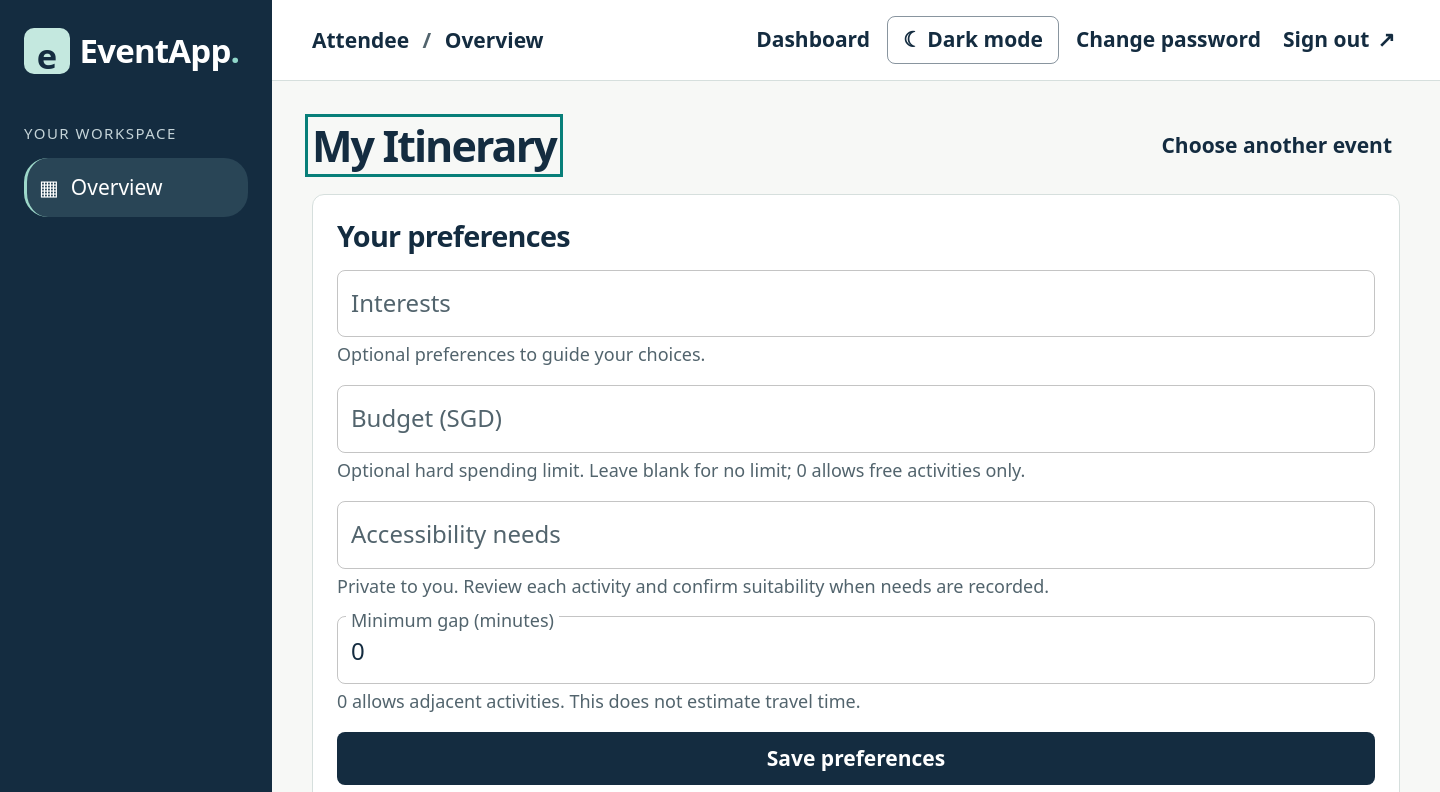
F02-UI06 stale preference save reports conflict without exposing raw server detail
Expected: the heading "My Itinerary" is shown, x1=312 y1=121 x2=556 y2=170
Expected: the button "Save preferences" is shown, x1=337 y1=732 x2=1375 y2=785
Type "Unsaved" into the field labelled "Interests". click: (856, 304)
box: x1=337 y1=270 x2=1375 y2=338
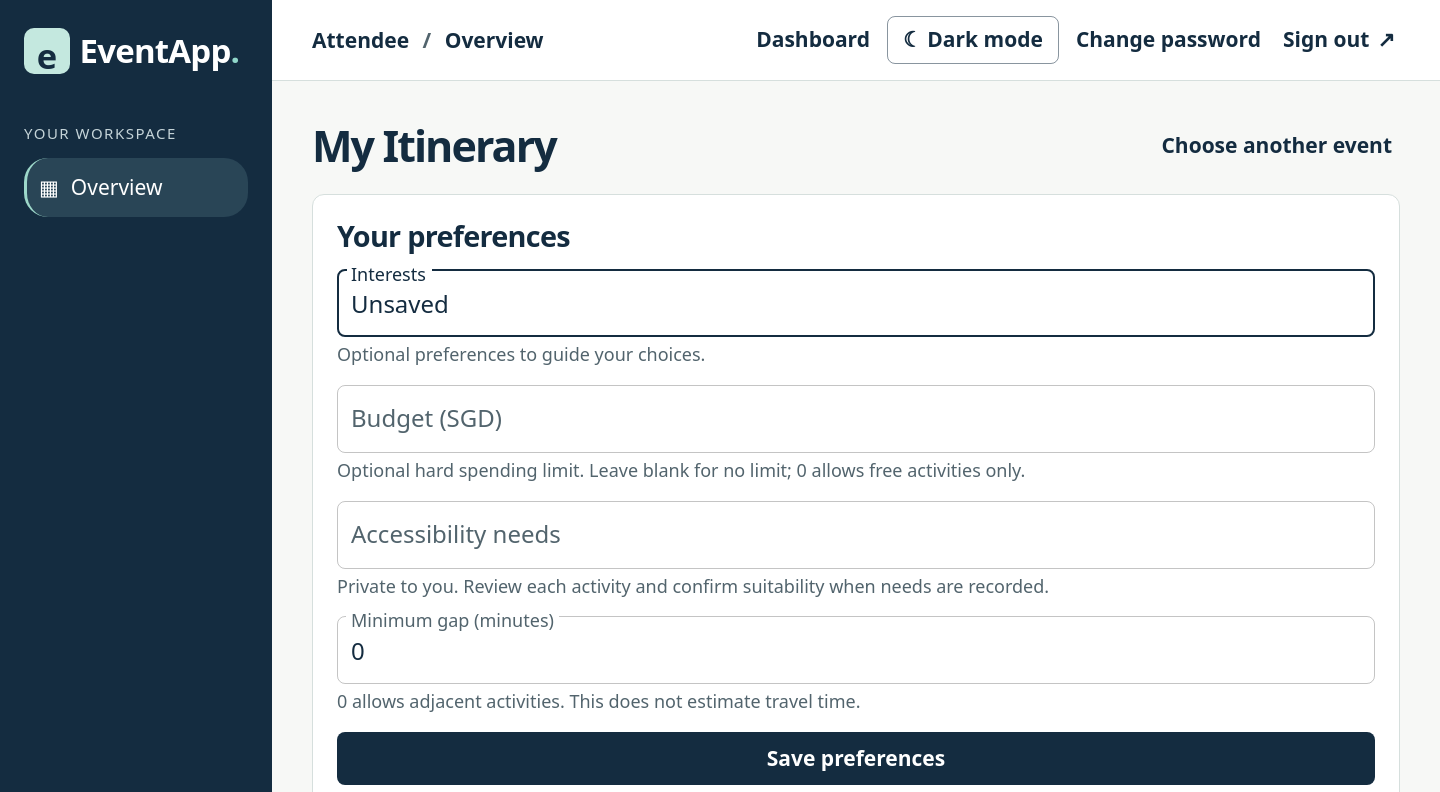
Click the button "Save preferences". click: (856, 758)
box: x1=337 y1=732 x2=1375 y2=785
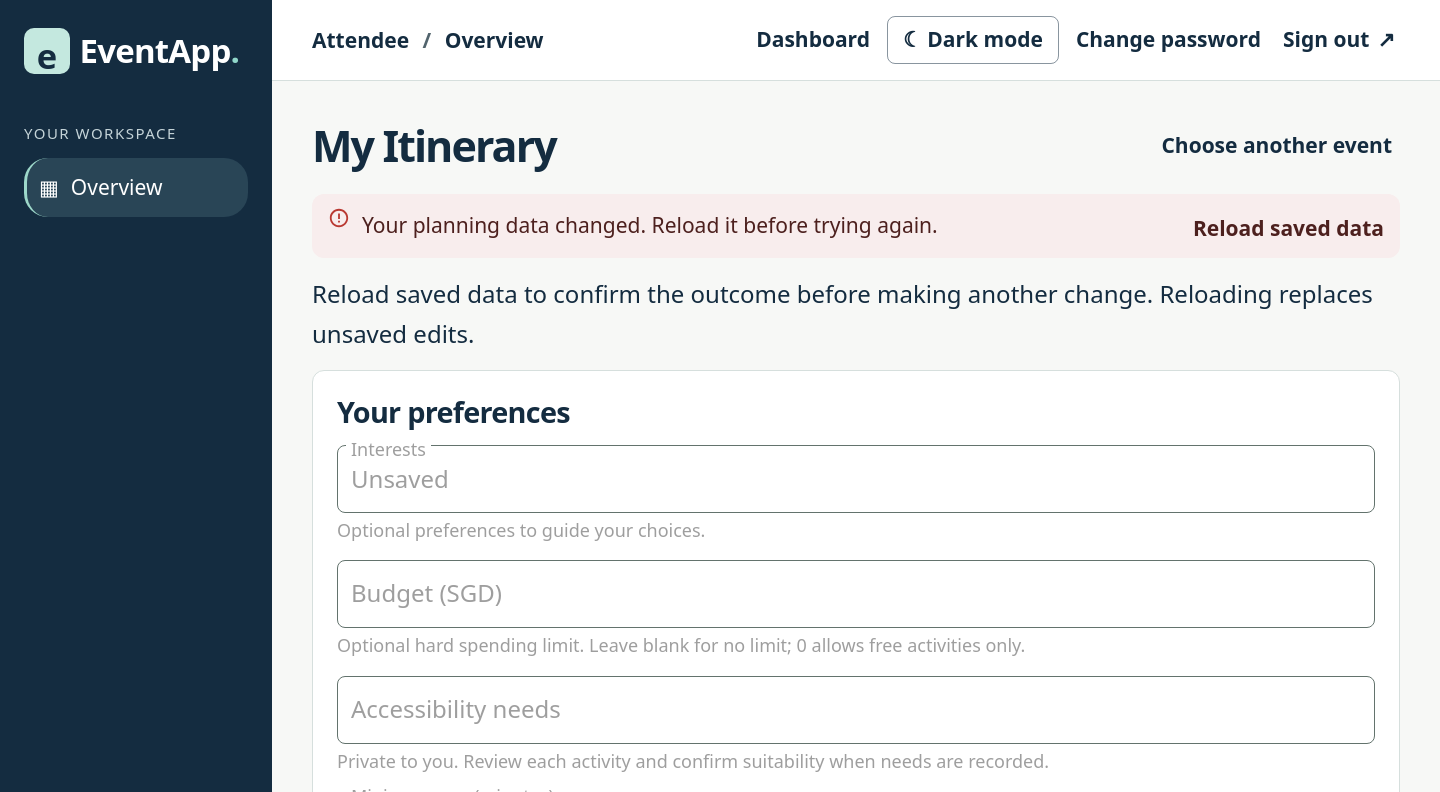
Expected: the message "Your planning data changed. Reload it before trying again. Reload saved data" is shown, x1=312 y1=194 x2=1400 y2=258
Expected: the message reads "Your planning data changed. Reload it before trying again. Reload saved data", x1=362 y1=211 x2=938 y2=239
